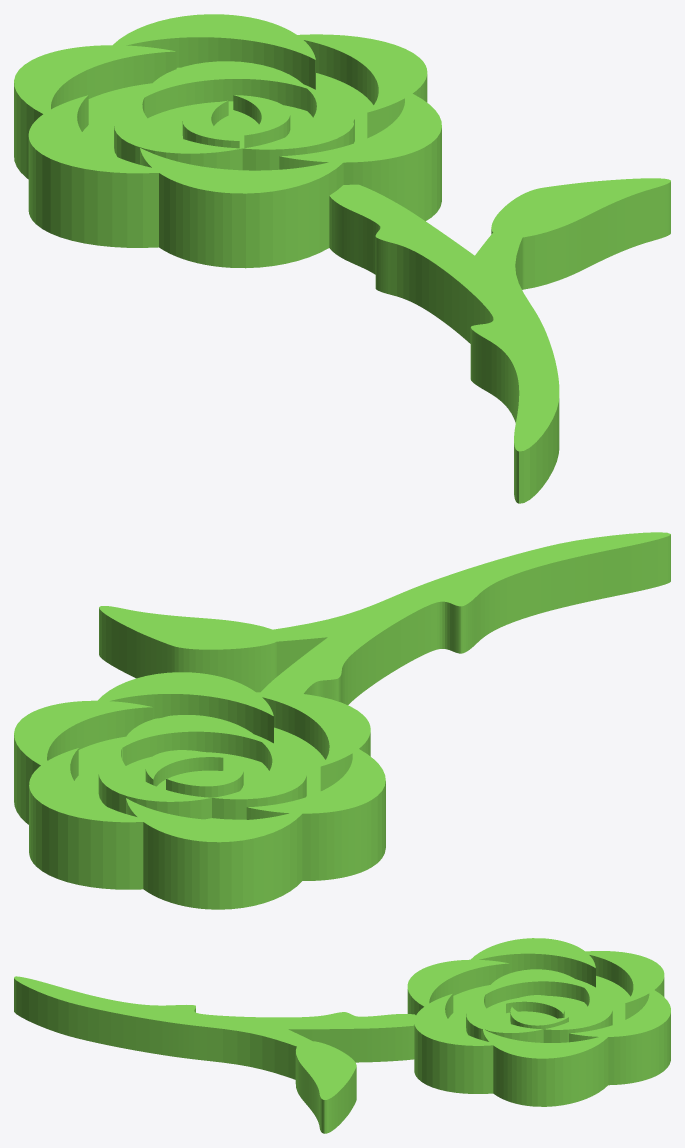
Rendered from rose.glb.
The picture shows the model from 3 angles, top to bottom: view 1: azimuth 30°, elevation 25°; view 2: azimuth 150°, elevation 25°; view 3: azimuth 270°, elevation 25°; orthographic projection. The views are drawn at different scales.
Size of the model in its own units: 65.58 by 10 by 123.
